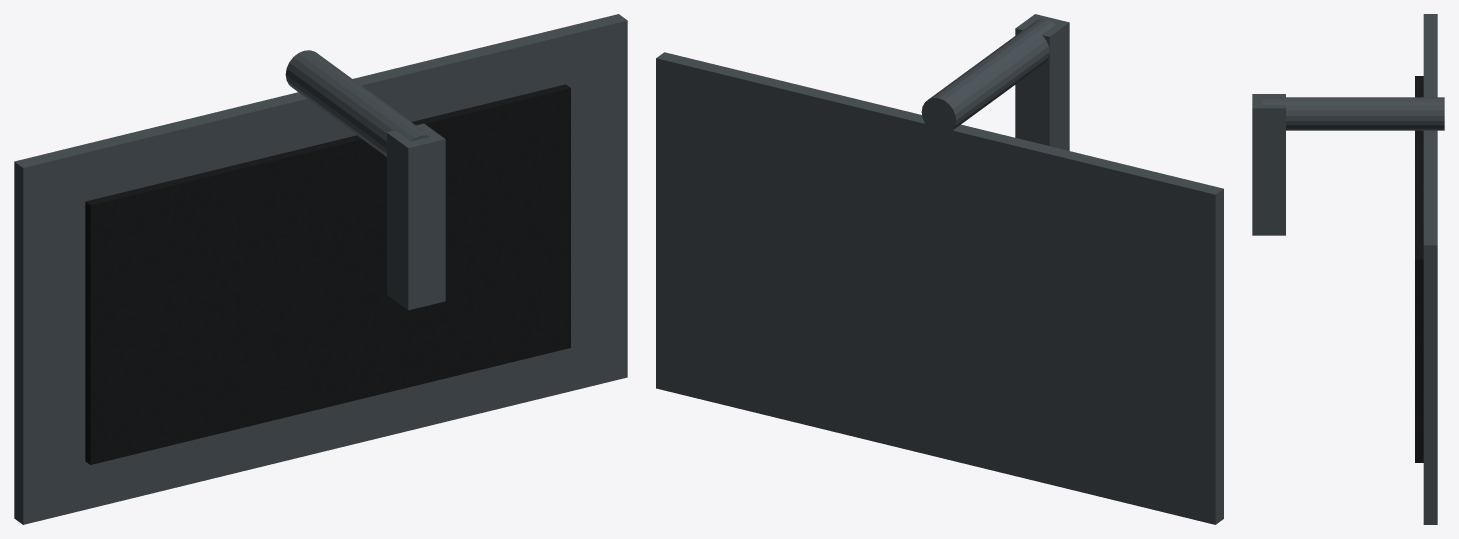
Rendered from kitchen_sink.obj.
The picture shows the model from 3 angles, left to right: view 1: azimuth 30°, elevation 25°; view 2: azimuth 150°, elevation 25°; view 3: azimuth 270°, elevation 25°; orthographic projection. The views are drawn at different scales.
Visible parts, largest first — view 1: kitchen_sink_charcoal, kitchen_sink_metal; view 2: kitchen_sink_metal; view 3: kitchen_sink_metal, kitchen_sink_charcoal.
Part boxes in pixels (x1,y1,x2,y2): kitchen_sink_charcoal: (85, 84, 570, 464); kitchen_sink_metal: (14, 14, 627, 524); kitchen_sink_metal: (656, 14, 1223, 524); kitchen_sink_metal: (1252, 14, 1444, 524); kitchen_sink_charcoal: (1415, 76, 1423, 462).
Size of the model in its own units: 39 by 24.2 by 13.7.
Materials: 2 (2 with a texture image).
